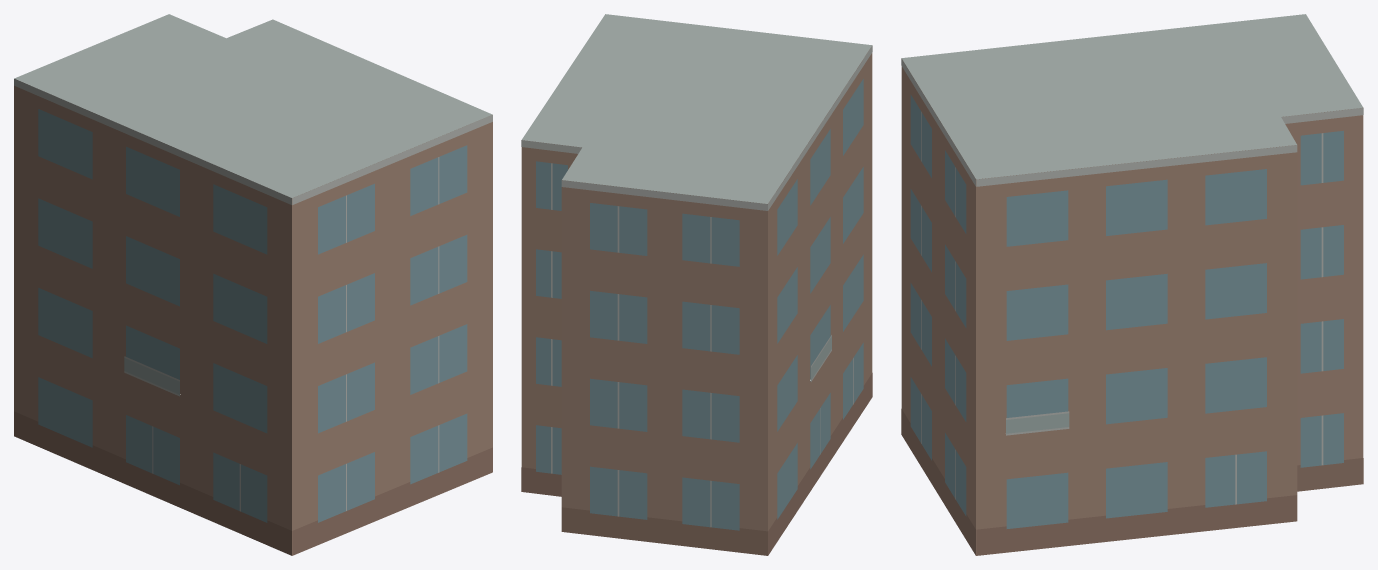
File: survey-upis-32959104.glb
The picture shows the model from 3 angles, left to right: view 1: azimuth 30°, elevation 25°; view 2: azimuth 150°, elevation 25°; view 3: azimuth 270°, elevation 25°; orthographic projection. The views are drawn at different scales.
Visible parts, largest first — view 1: survey-upis-32959104.tmp; view 2: survey-upis-32959104.tmp; view 3: survey-upis-32959104.tmp.
Part boxes in pixels (x1=…): survey-upis-32959104.tmp: x1=14, y1=14, x2=492, y2=555; survey-upis-32959104.tmp: x1=521, y1=14, x2=872, y2=555; survey-upis-32959104.tmp: x1=901, y1=14, x2=1363, y2=555.
Bounding box in the file's own units: 11.6 × 12.3 × 13.69.
